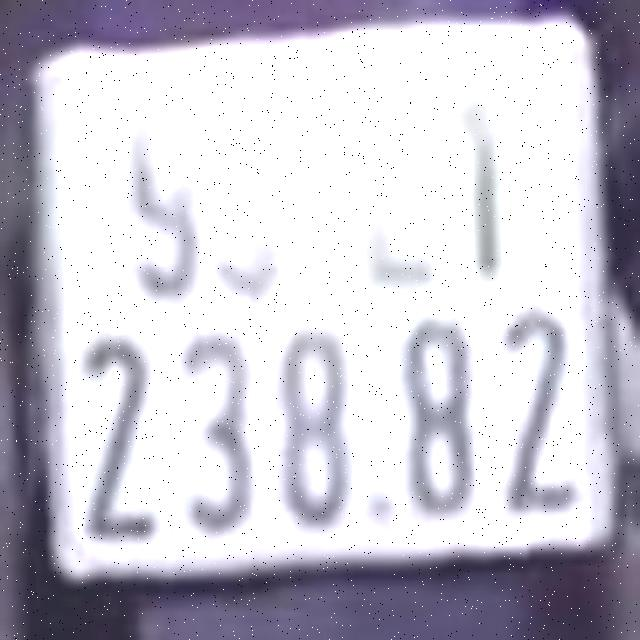1: (445, 77, 518, 280)
2: (500, 301, 582, 515), (78, 332, 160, 540)
3: (178, 328, 252, 533)
8: (402, 311, 477, 516), (280, 323, 350, 527)
9: (127, 100, 203, 301), (214, 95, 286, 299)
L: (354, 83, 440, 288)
